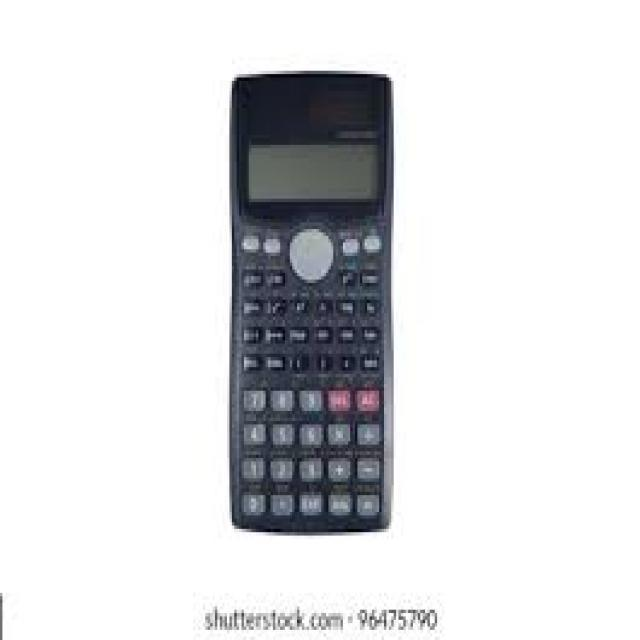Calculator: (226, 72, 397, 533)
